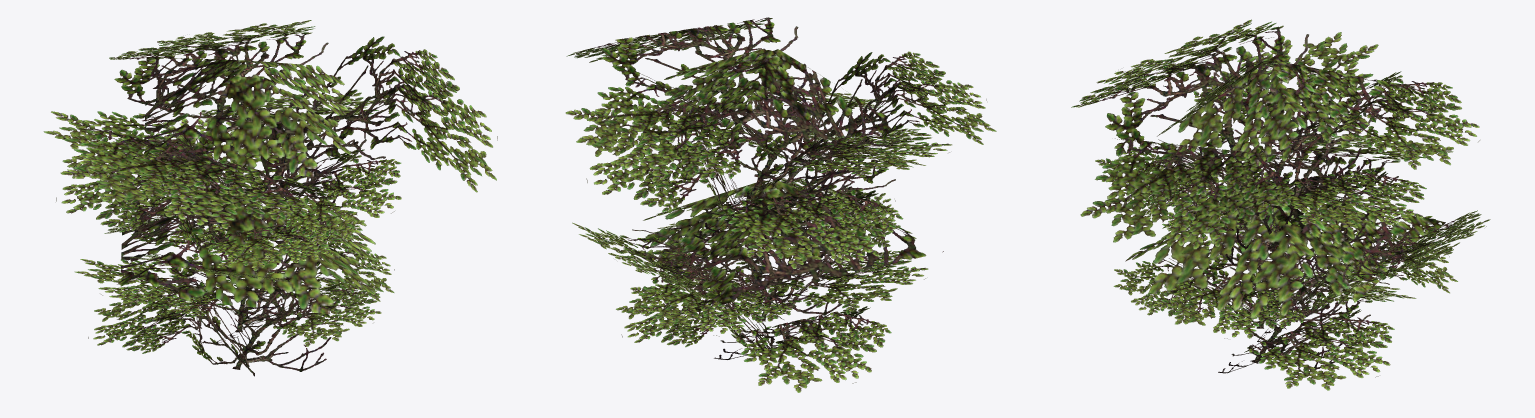
The model's file is arbusto_a.glb.
3 views of the same model, side by side, from view 1: azimuth 30°, elevation 25°; view 2: azimuth 150°, elevation 25°; view 3: azimuth 270°, elevation 25° (orthographic).
Parts seen in each view (by area): view 1: Modelo; view 2: Modelo; view 3: Modelo.
Part boxes in pixels (bbox=[...]): Modelo: bbox=[43, 20, 497, 376]; Modelo: bbox=[565, 17, 996, 392]; Modelo: bbox=[1071, 19, 1490, 390].
Bounding box in the file's own units: 3.8 × 2.4 × 3.46.
1 material, 1 textured.
